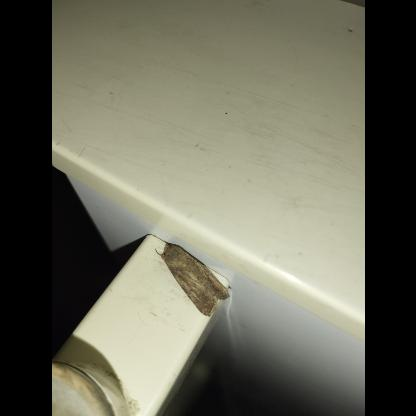Fall Armyworm Moth: (154, 242, 231, 318)
